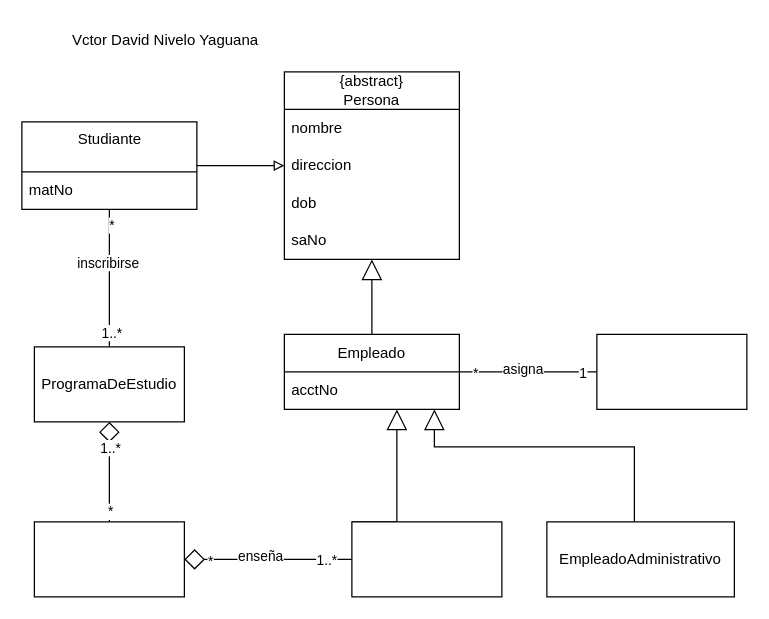
This 769x619 diagram has some shape labels left out. Each missing label, with the centre of its shape:
"Curso" belongs at point (108, 559).
"Facultad" belongs at point (671, 371).
"InvestigadorAsociado" belongs at point (426, 559).
